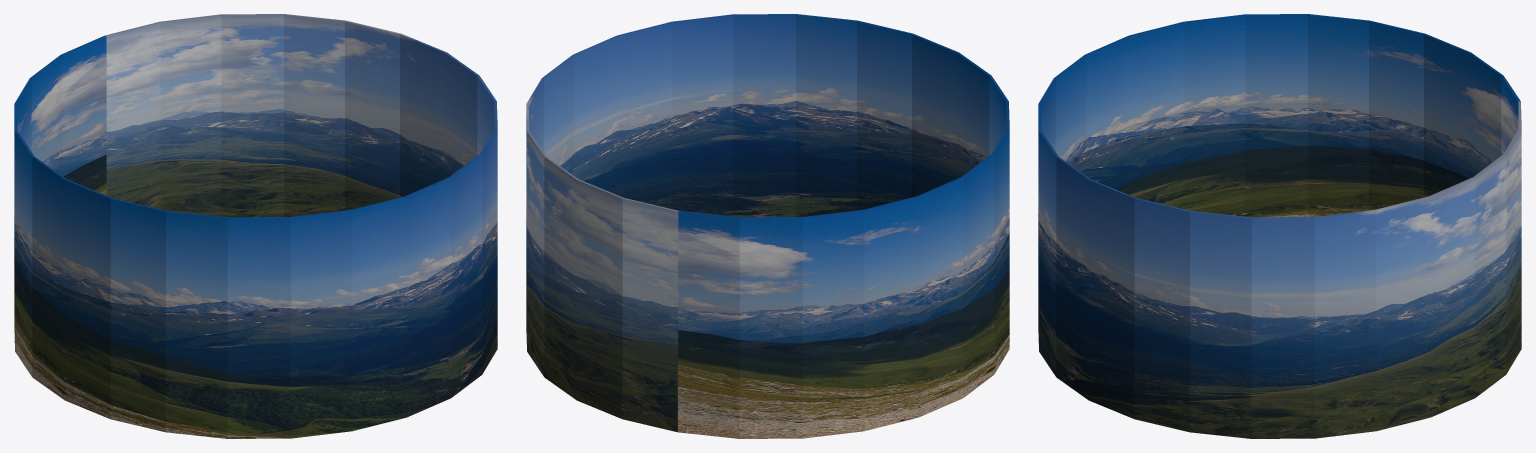
The model's file is back.obj.
The picture shows the model from 3 angles, left to right: view 1: azimuth 30°, elevation 25°; view 2: azimuth 150°, elevation 25°; view 3: azimuth 270°, elevation 25°; orthographic projection.
Visible parts, largest first — view 1: Cylinder_Cylinder.001; view 2: Cylinder_Cylinder.001; view 3: Cylinder_Cylinder.001.
Part boxes in pixels (left/top/right/bottom): Cylinder_Cylinder.001: left=14, top=14, right=497, bottom=438; Cylinder_Cylinder.001: left=526, top=14, right=1009, bottom=438; Cylinder_Cylinder.001: left=1038, top=14, right=1521, bottom=438.
Bounding box in the file's own units: 1.99 × 1 × 1.99.
